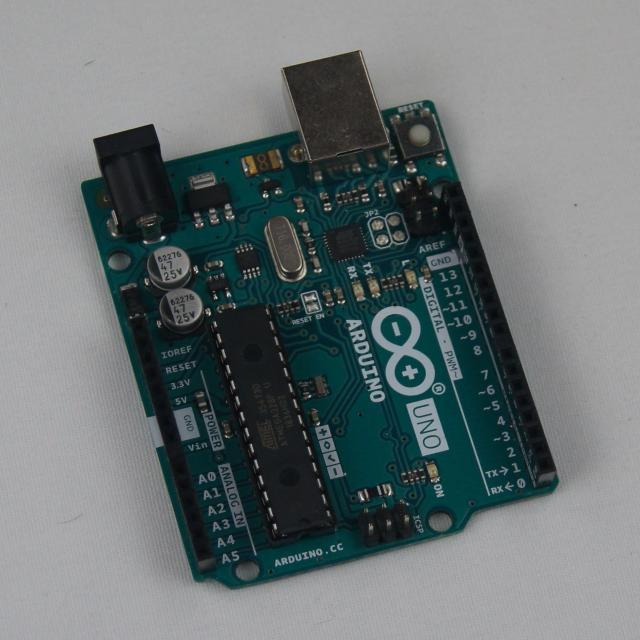Arduino Uno -Green-: (83, 52, 559, 587)
